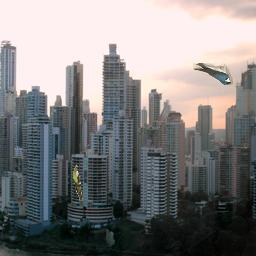Cuckoo: (73, 165, 83, 200)
Swallow: (193, 63, 233, 85)
